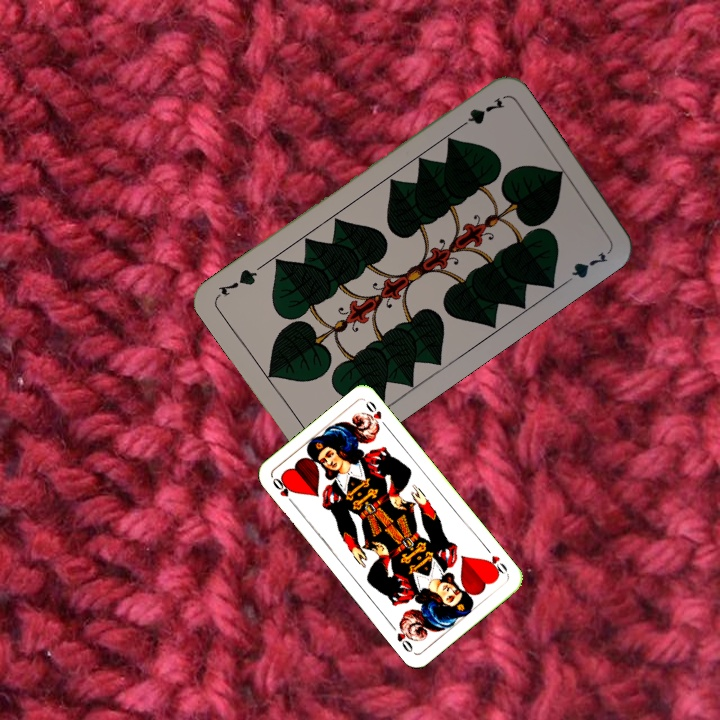G7: (452, 92, 507, 133)
HO: (268, 474, 298, 508), (481, 543, 510, 578)
